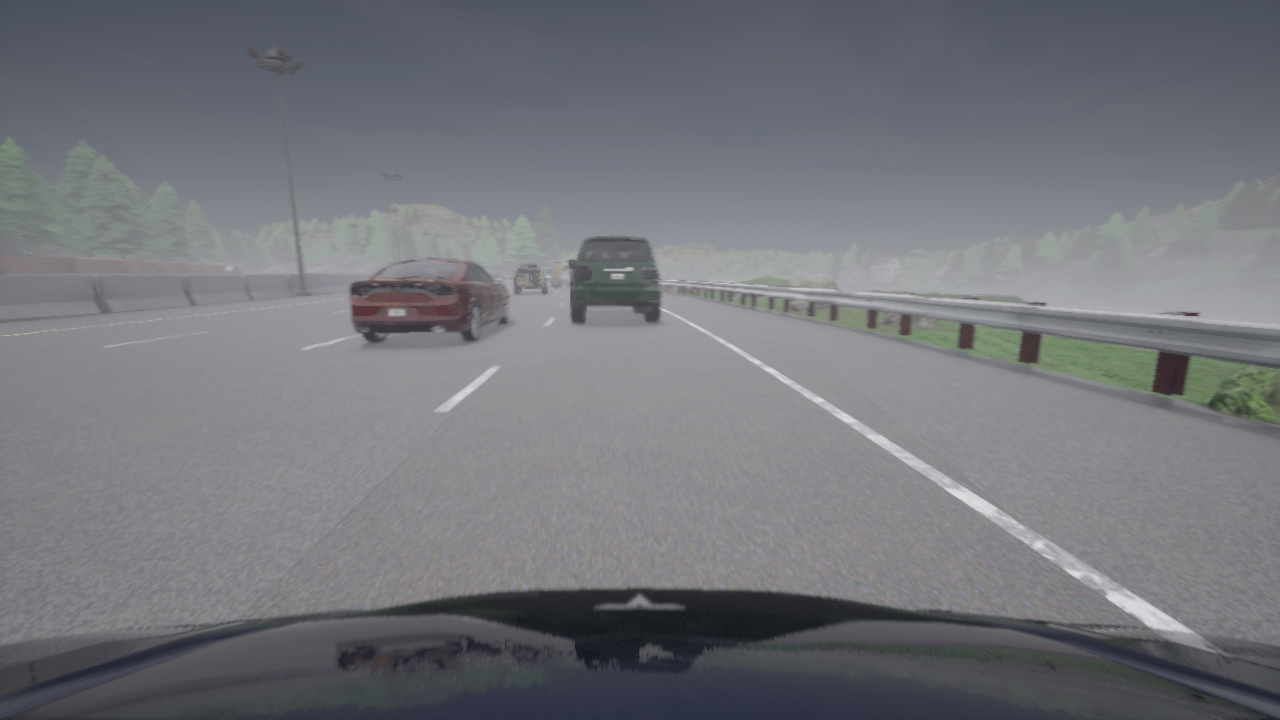cyclist: (0, 588, 1279, 719), (349, 256, 510, 342), (569, 237, 660, 322), (514, 263, 546, 293), (549, 259, 576, 286), (490, 271, 504, 279), (517, 265, 520, 270), (570, 269, 572, 272)
